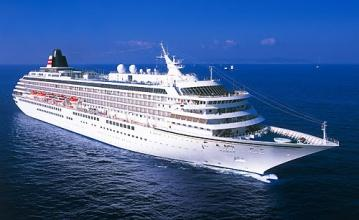youlun: (8, 43, 346, 178)
